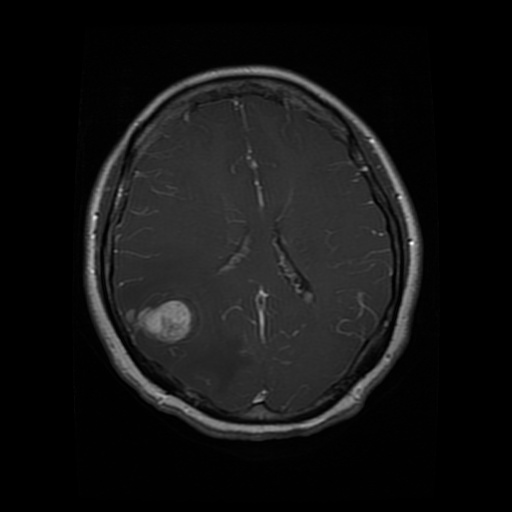glioma: (125, 297, 205, 345)
